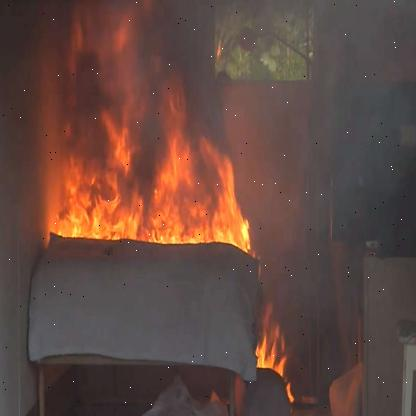fire: (33, 0, 238, 237)
smoke: (159, 4, 416, 374)
